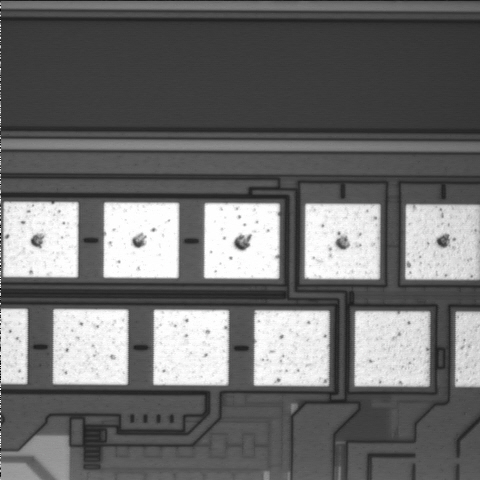pad: (3, 202, 79, 278), (103, 202, 179, 278), (204, 203, 280, 279), (53, 309, 128, 385), (153, 310, 229, 385), (254, 310, 329, 386), (354, 311, 430, 386), (305, 204, 380, 279)
